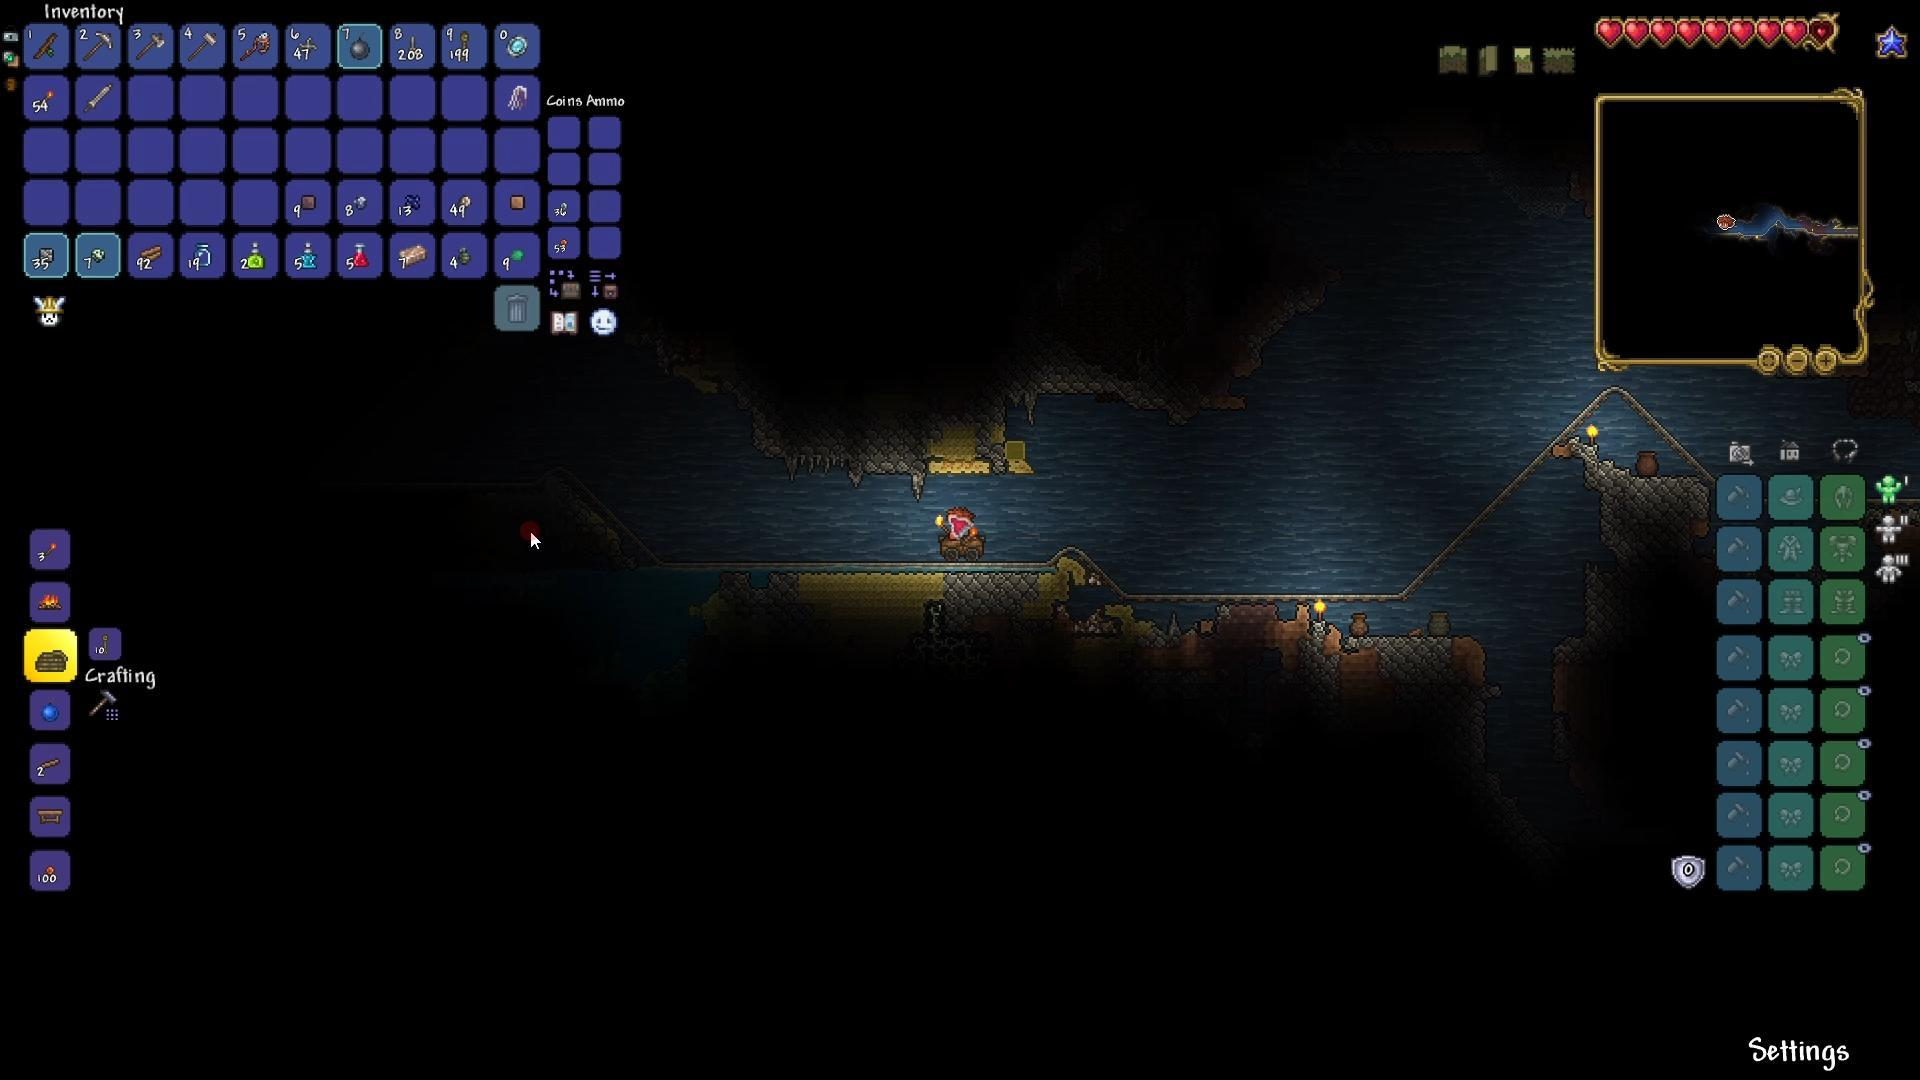sand: (789, 568, 955, 612), (924, 419, 992, 487), (1021, 564, 1069, 618)
